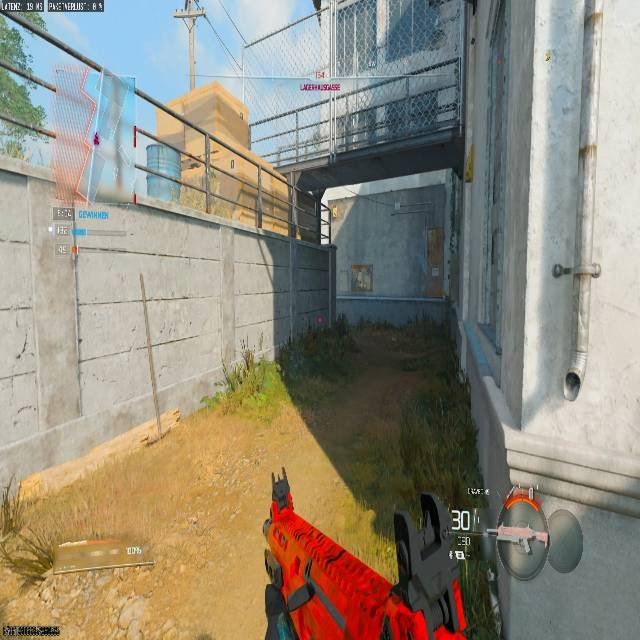player: (352, 264, 372, 292)
